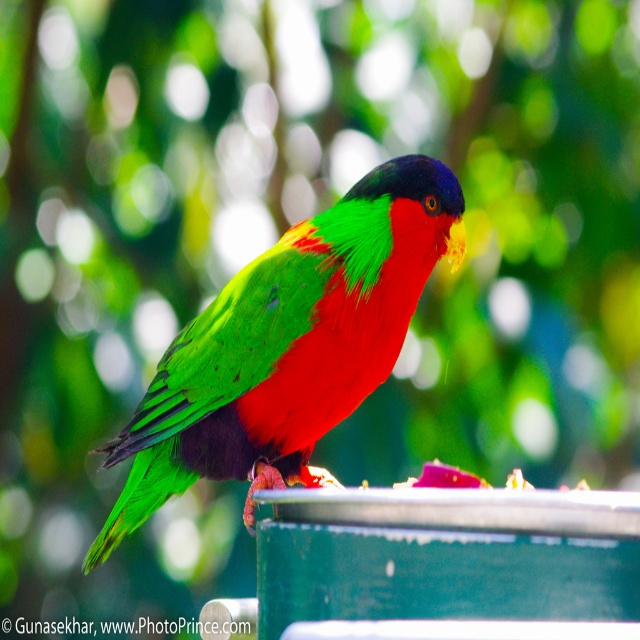Parrot: (81, 154, 467, 577)
